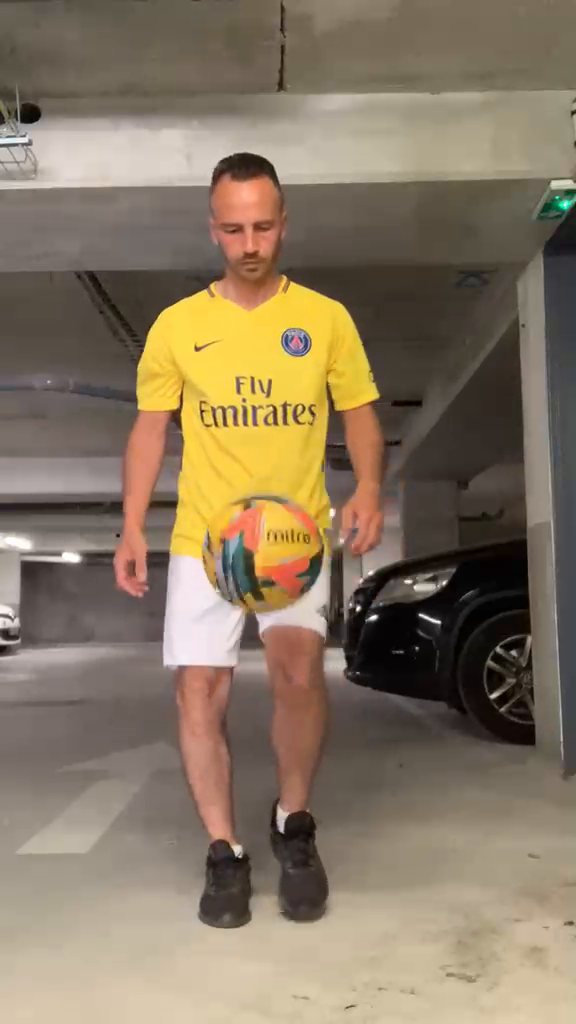ball: (201, 494, 323, 616)
